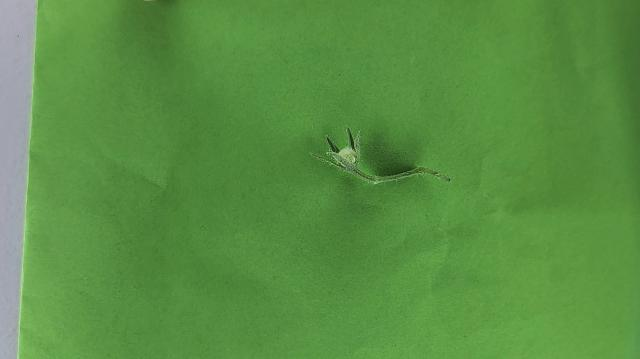Fruit Bud: (325, 128, 360, 171)
